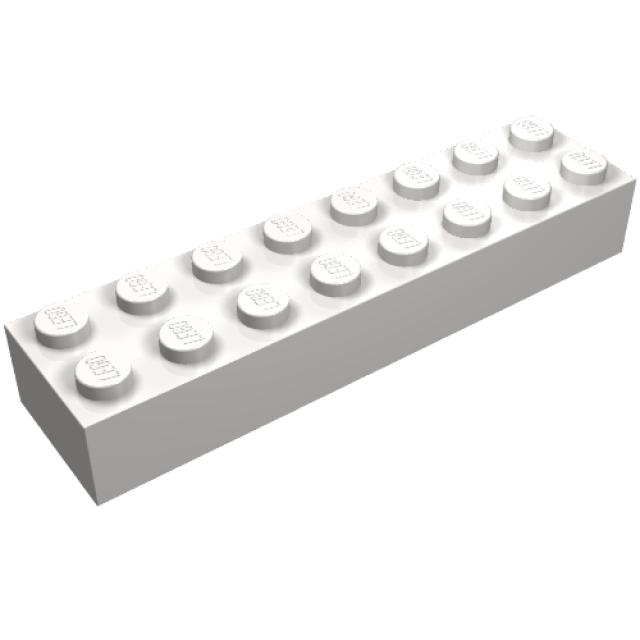White_Large: (4, 111, 639, 509)
